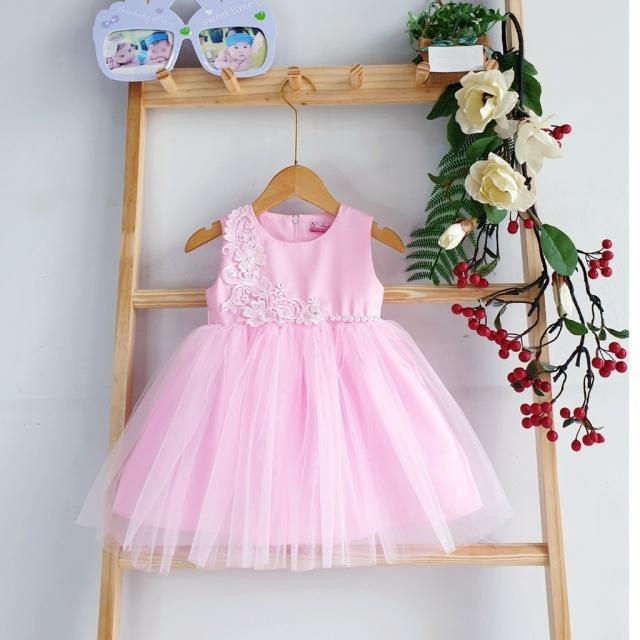clothes: (93, 206, 505, 568)
